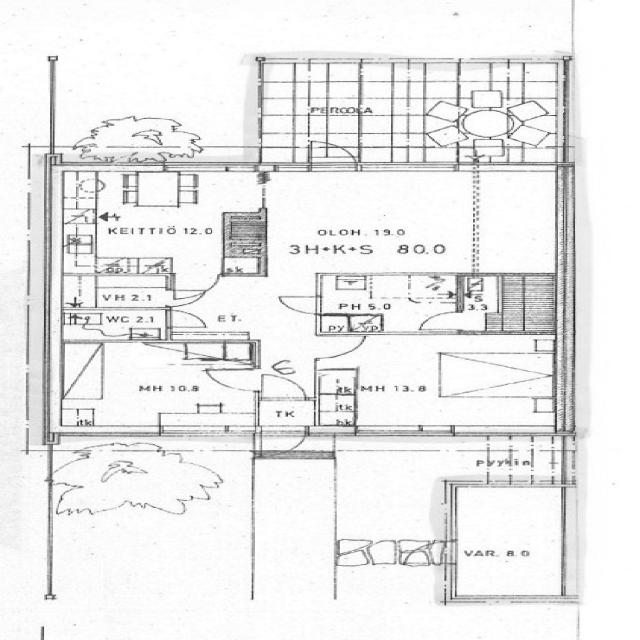door: (314, 332, 368, 358), (253, 431, 311, 455), (202, 367, 258, 391), (400, 540, 449, 567), (416, 308, 466, 334), (259, 374, 307, 401), (168, 281, 214, 307), (274, 293, 326, 315), (164, 308, 210, 331)
window: (350, 160, 472, 177)
zone: (243, 167, 568, 276), (52, 166, 255, 276), (51, 339, 257, 436), (447, 482, 570, 600), (320, 273, 464, 330), (460, 275, 558, 335), (60, 308, 170, 341), (62, 275, 165, 307), (314, 330, 376, 354), (328, 315, 384, 334)
